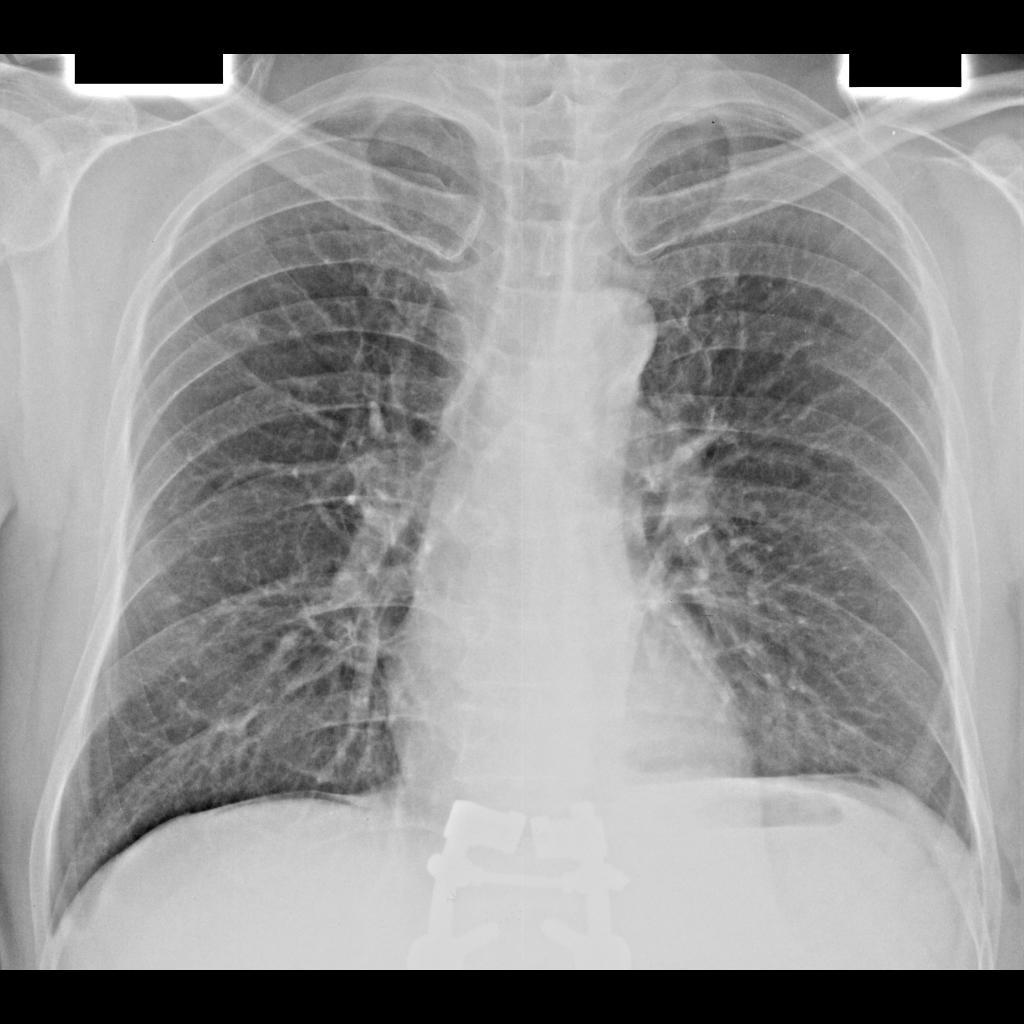Nodule: (227, 311, 261, 345)
